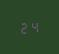four: (29, 20, 38, 33)
two: (19, 20, 28, 34)
